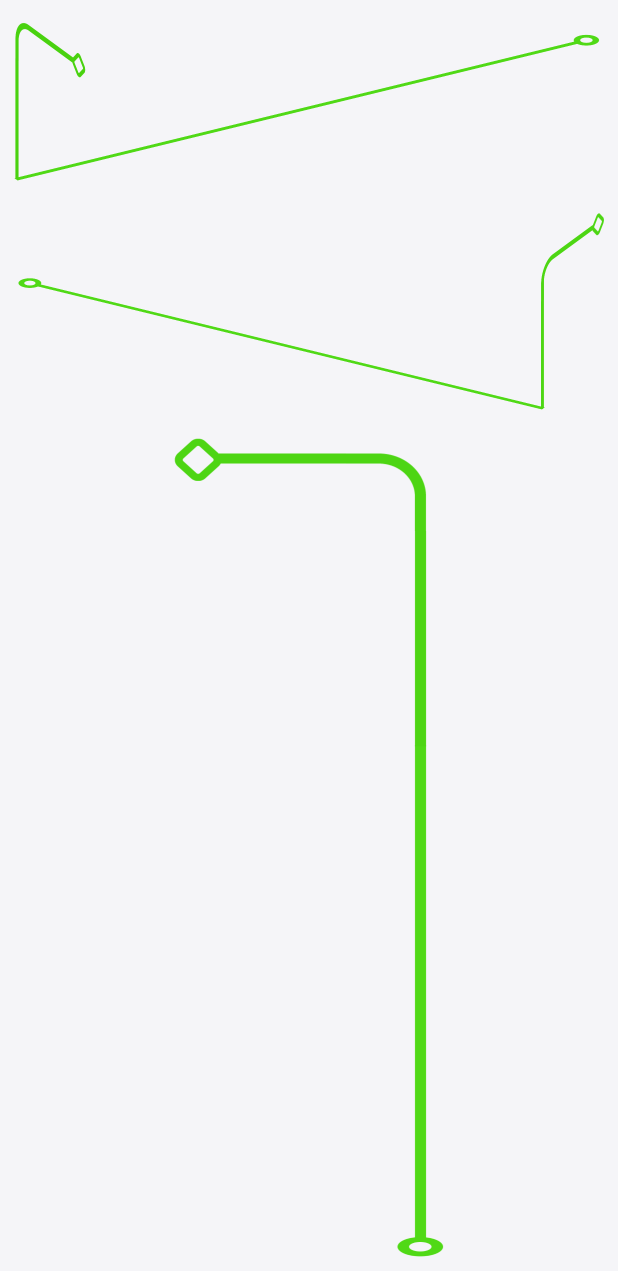
The model's file is 7_1_cl_active.glb.
3 views of the same model, one above another, from view 1: azimuth 30°, elevation 25°; view 2: azimuth 150°, elevation 25°; view 3: azimuth 270°, elevation 25° (orthographic). The views are drawn at different scales.
Visible parts, largest first — view 1: 7_1_cl_active; view 2: 7_1_cl_active; view 3: 7_1_cl_active.
Part boxes in pixels (box(x1,y1,x2,y2)): 7_1_cl_active: box(14, 23, 598, 180); 7_1_cl_active: box(18, 213, 603, 409); 7_1_cl_active: box(174, 438, 442, 1256).
Size of the model in its own units: 8.54 by 2.4 by 1.9.
Materials: 1 (1 with a texture image).
